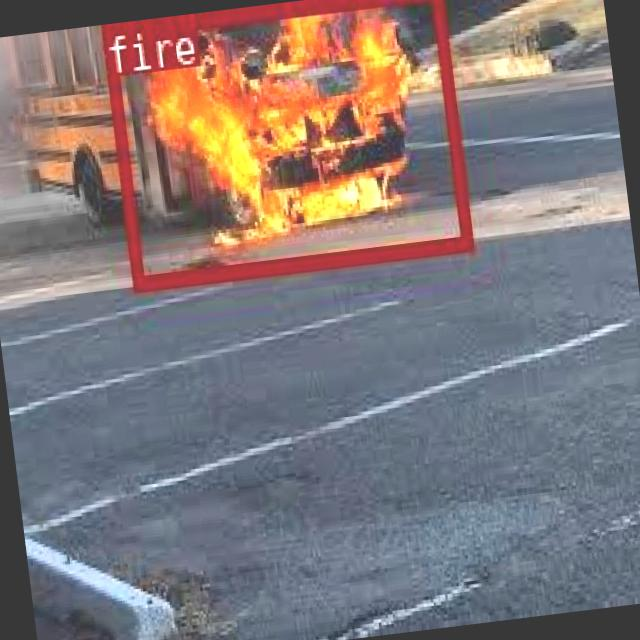fire: (98, 0, 469, 290)
